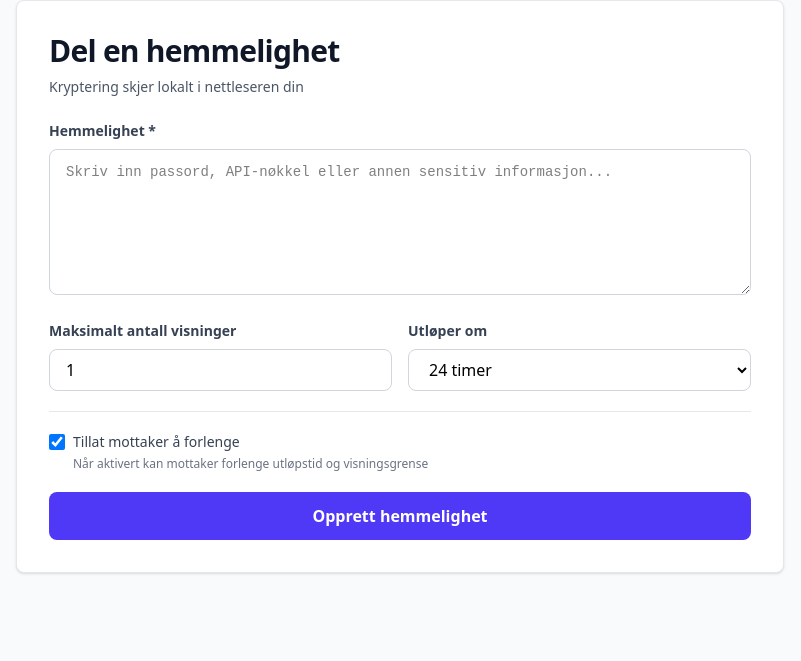
Test: CreateSecret › shows error when submitting empty secret
Click the button "Opprett hemmelighet". click: [400, 516]
box: [49,492,751,540]
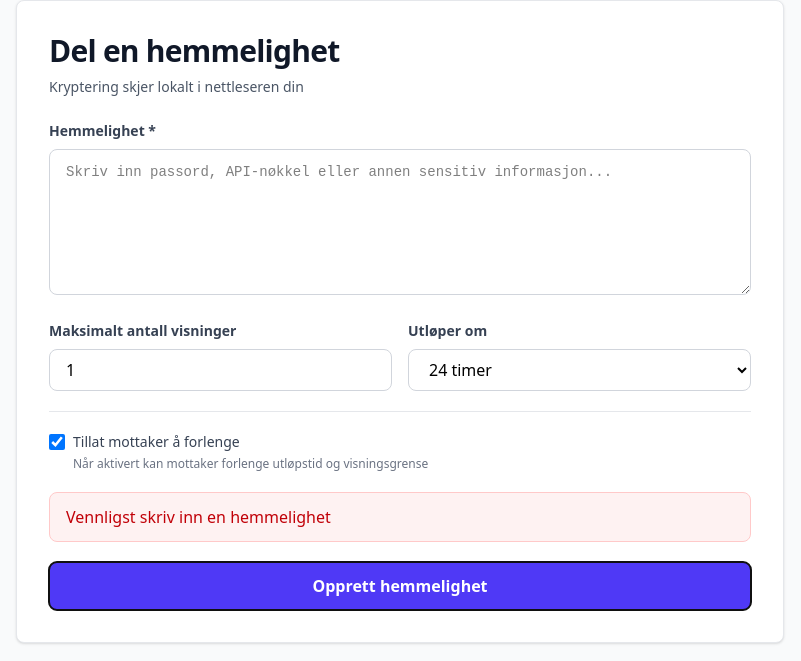
Expected: the text "Vennligst skriv inn en hemmelighet" is shown, [49,492,751,542]
